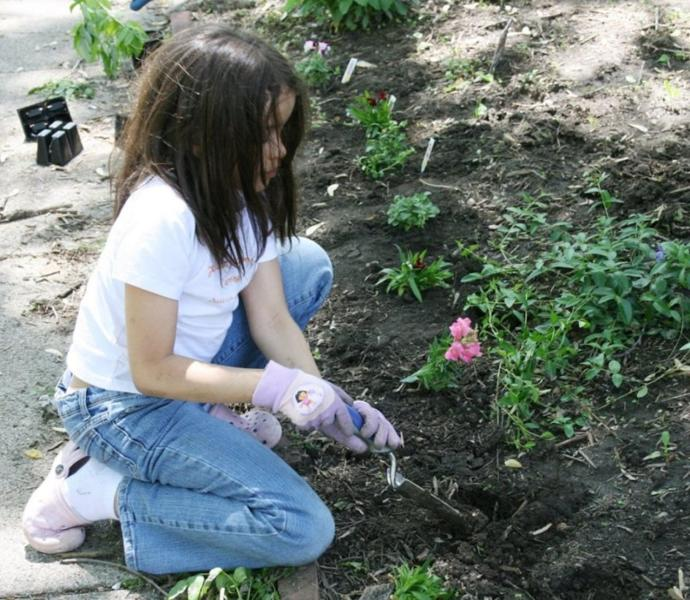person: (23, 26, 403, 575)
